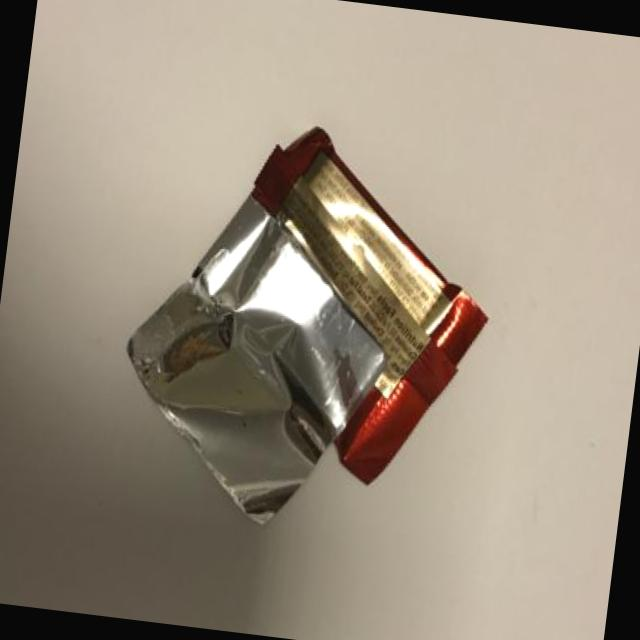giay_goi: (126, 126, 486, 522)
